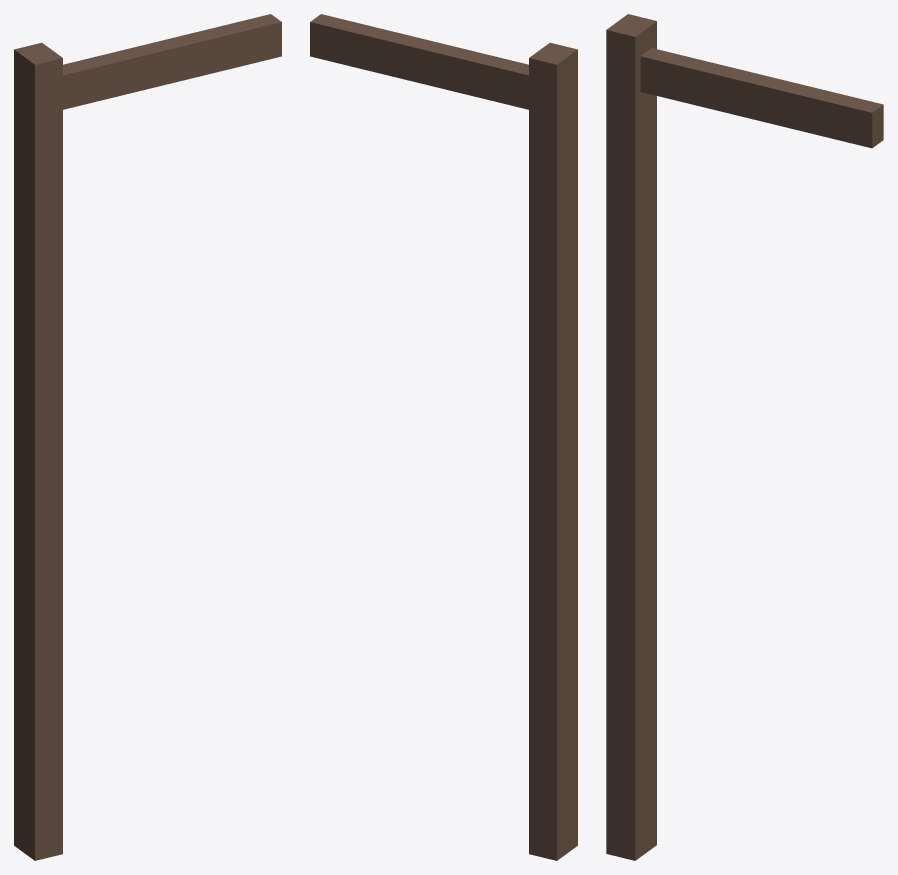
3 views of the same model, side by side, from view 1: azimuth 30°, elevation 25°; view 2: azimuth 150°, elevation 25°; view 3: azimuth 330°, elevation 25° (orthographic). The views are drawn at different scales.
Visible parts, largest first — view 1: stick; view 2: stick; view 3: stick.
Part boxes in pixels (x1,y1,x2,y2): stick: (14,14,281,860); stick: (310,14,577,860); stick: (606,14,883,860).
Size of the model in its own units: 3.13 by 9.46 by 0.4519.
